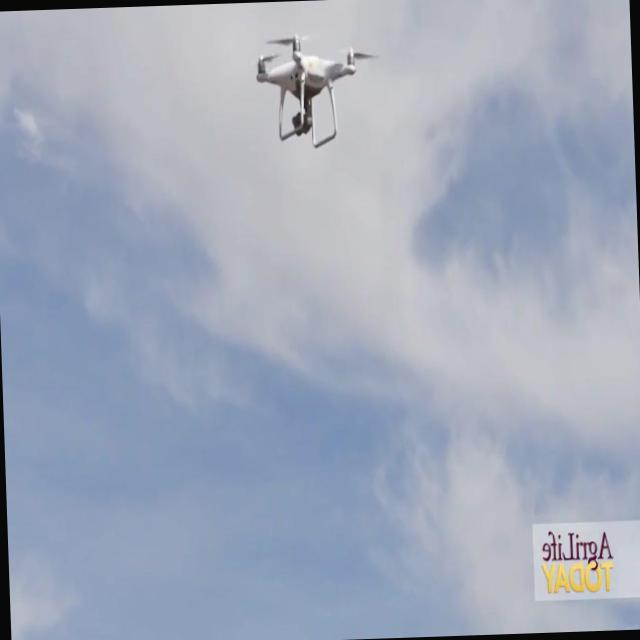drone: (252, 28, 375, 150)
